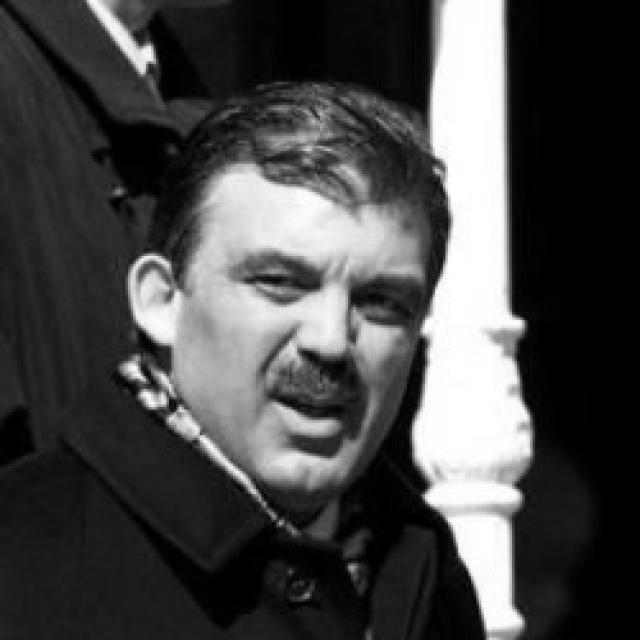real: (178, 156, 424, 498), (235, 247, 415, 331)
